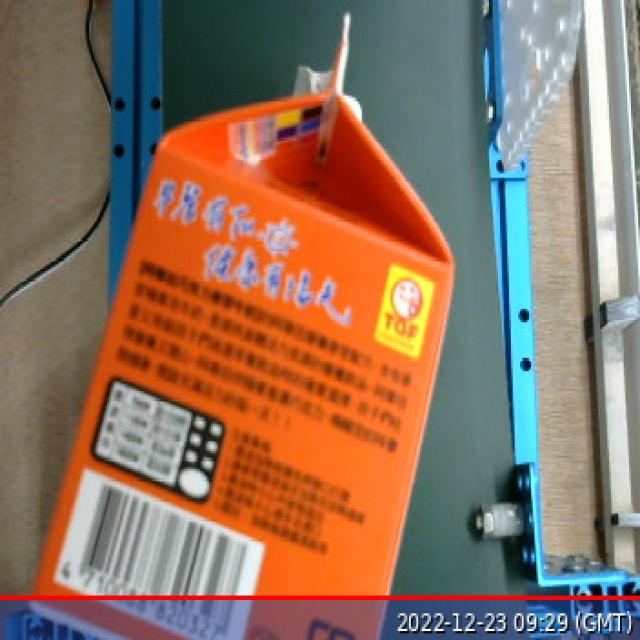non_white_jug: (10, 10, 474, 640)
